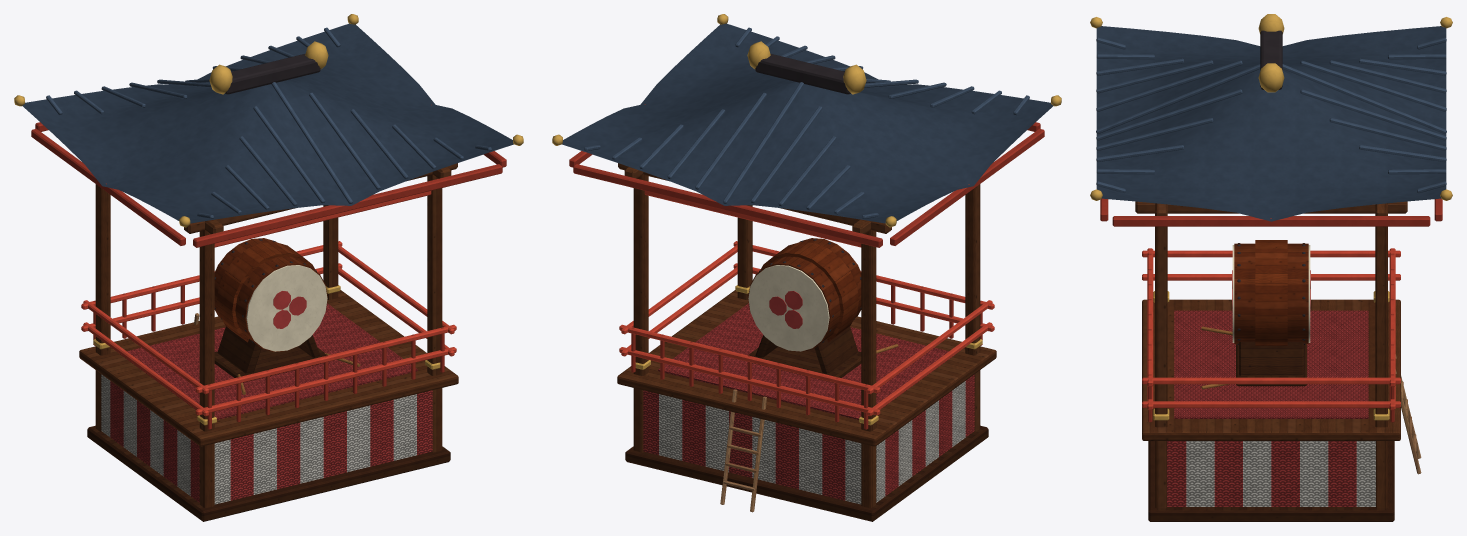
File: env_yagura.glb
The picture shows the model from 3 angles, left to right: view 1: azimuth 30°, elevation 25°; view 2: azimuth 150°, elevation 25°; view 3: azimuth 270°, elevation 25°; orthographic projection. The views are drawn at different scales.
Visible parts, largest first — view 1: env_yagura; view 2: env_yagura; view 3: env_yagura.
Part boxes in pixels (x1,y1,x2,y2): env_yagura: [14, 14, 523, 521]; env_yagura: [552, 14, 1061, 521]; env_yagura: [1090, 14, 1452, 521].
Bounding box in the file's own units: 6.47 × 7.28 × 5.6.
3 materials, 3 textured.
